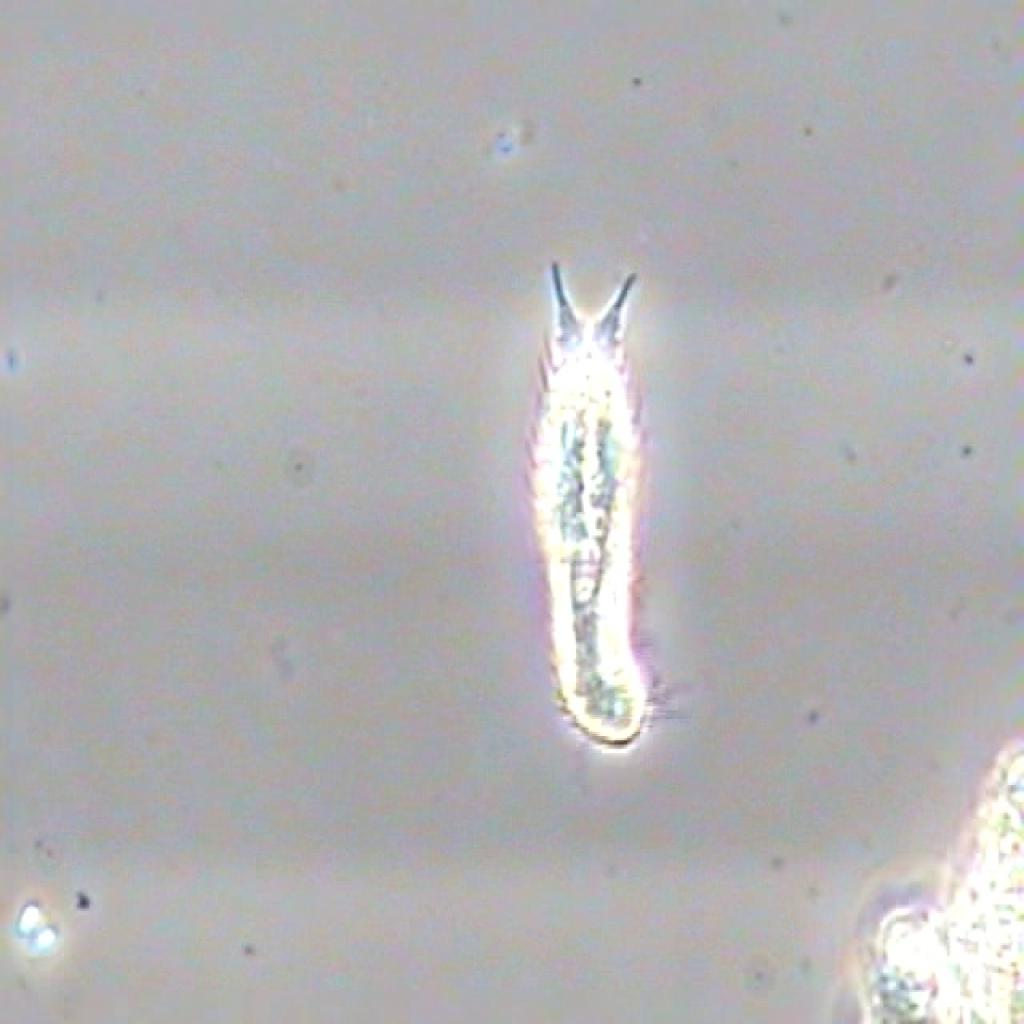Chaetonotus: (514, 235, 689, 787)
